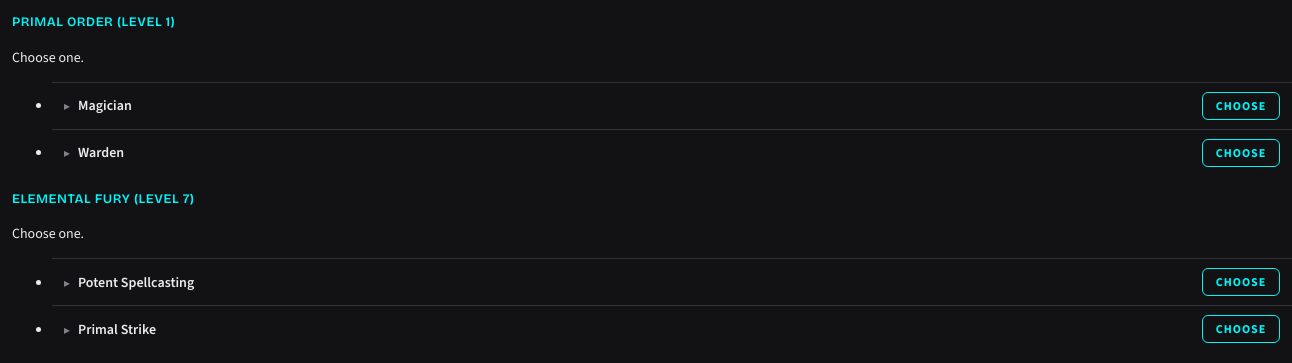
Test case: ClassFeatureChoicePicker › keeps every other feature’s pick when one feature is chosen (order-of-use regression)
Expected: the text "Magician" is shown, left=78, top=95, right=132, bottom=116
Click the 1st button "Choose": (1241,106) left=1202, top=92, right=1280, bottom=120
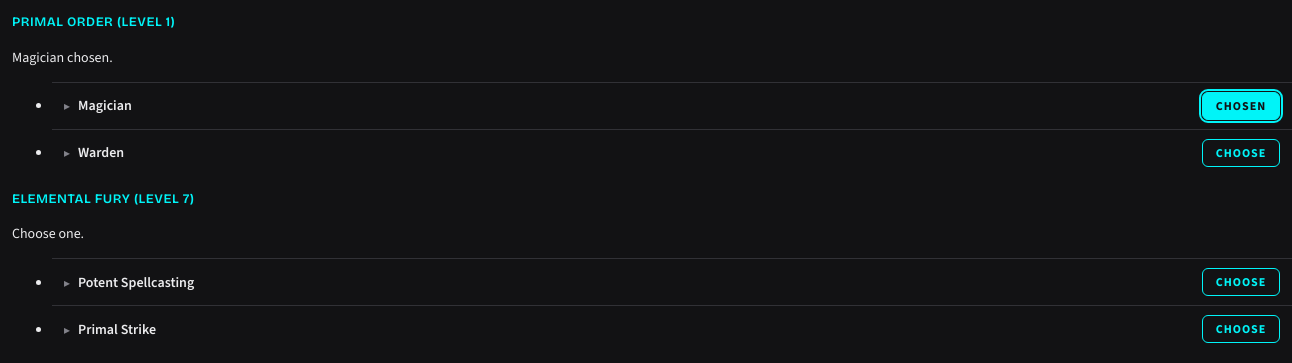
Click the 3rd button "Choose": (1241,329) left=1202, top=315, right=1280, bottom=343
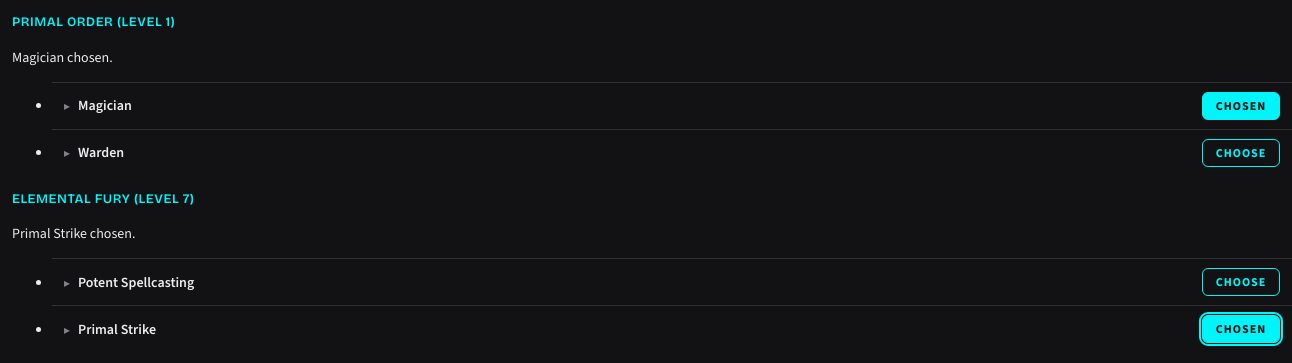
Expected: the text "Magician chosen." is shown, left=12, top=48, right=113, bottom=66
Expected: the text "Primal Strike chosen." is shown, left=12, top=224, right=135, bottom=243
Note: And in the opposite order — changing the EARLIER feature must not drop the later one.
Click the 1st button "Choose": (1241,152) left=1202, top=138, right=1280, bottom=166
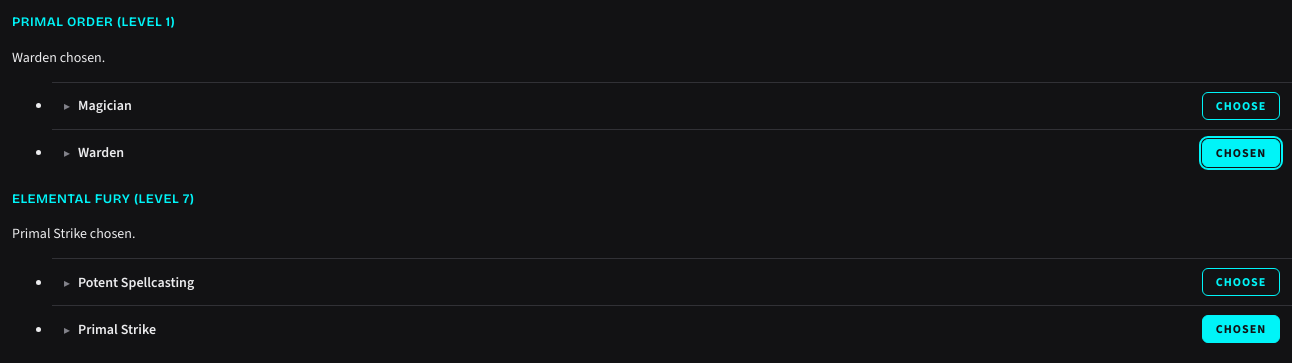
Expected: the text "Primal Strike chosen." is shown, left=12, top=224, right=135, bottom=243
Expected: the text "Warden chosen." is shown, left=12, top=48, right=105, bottom=66
